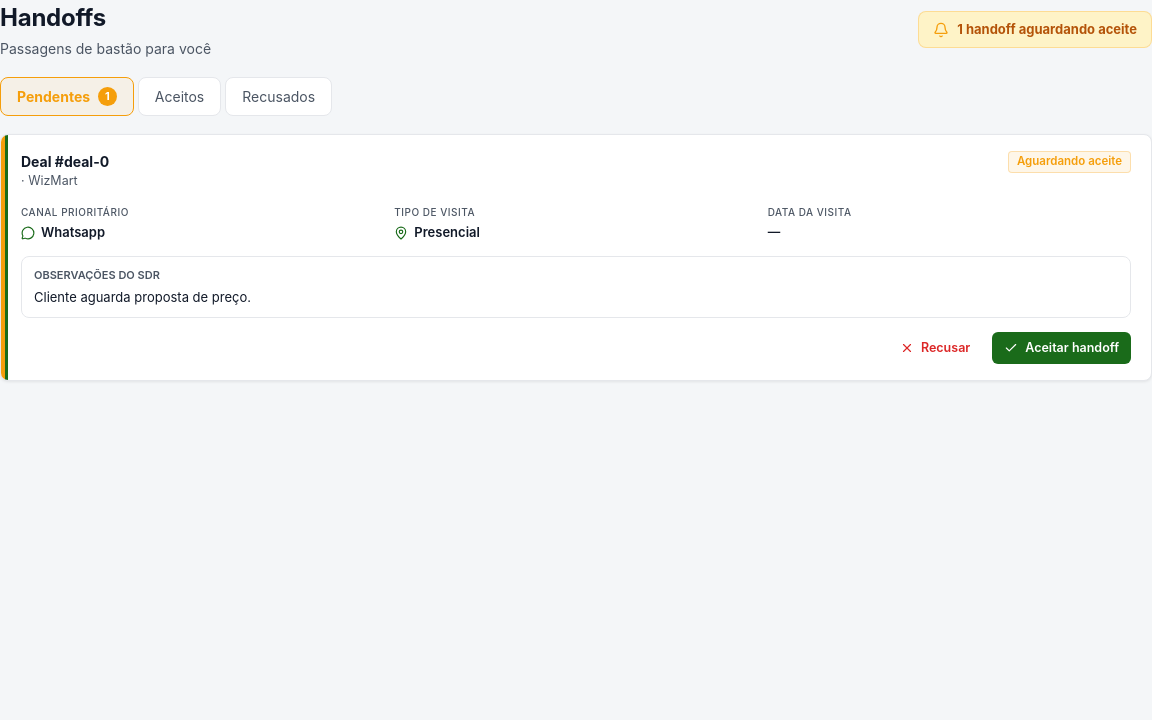
it: HandoffsPage — modal de recusa › clicar Recusar abre modal de recusa
Click the button "Recusar" at point(935, 348), box [888,332,982,364]
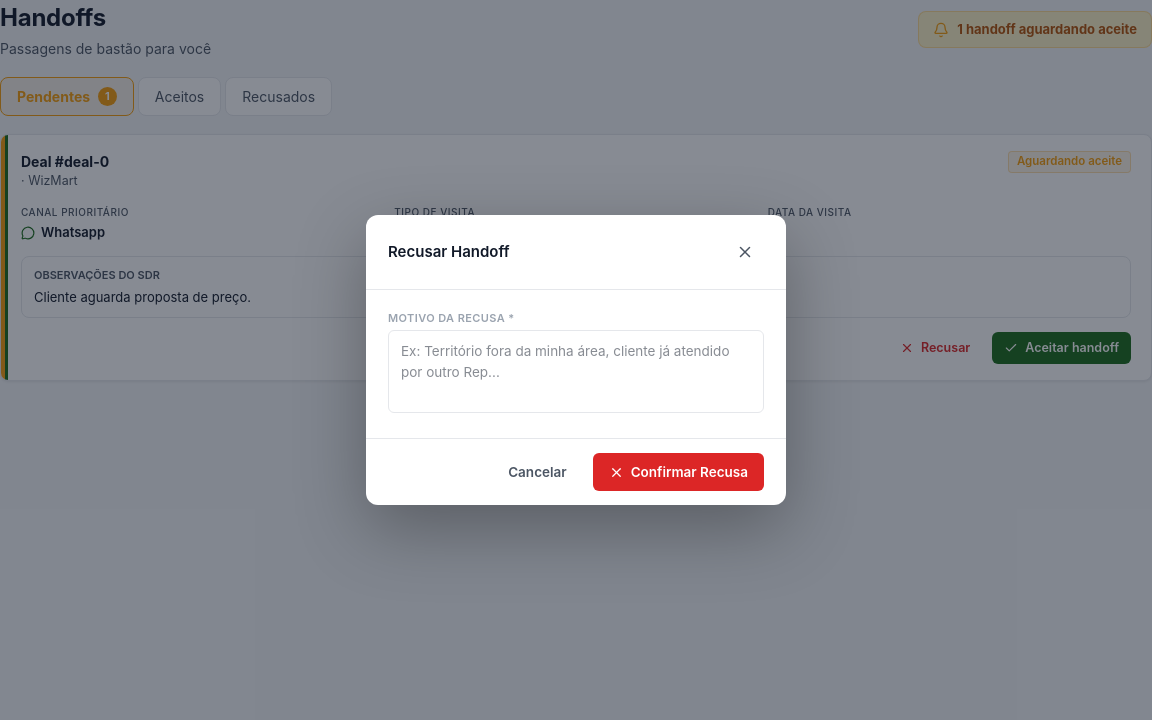
Check: the heading "Recusar Handoff" is shown, box [388,241,510,263]
